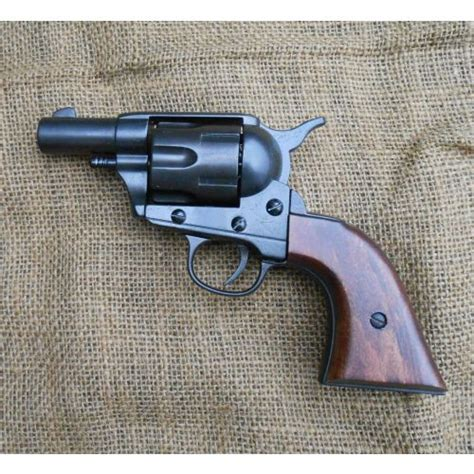gun: (36, 103, 450, 395)
